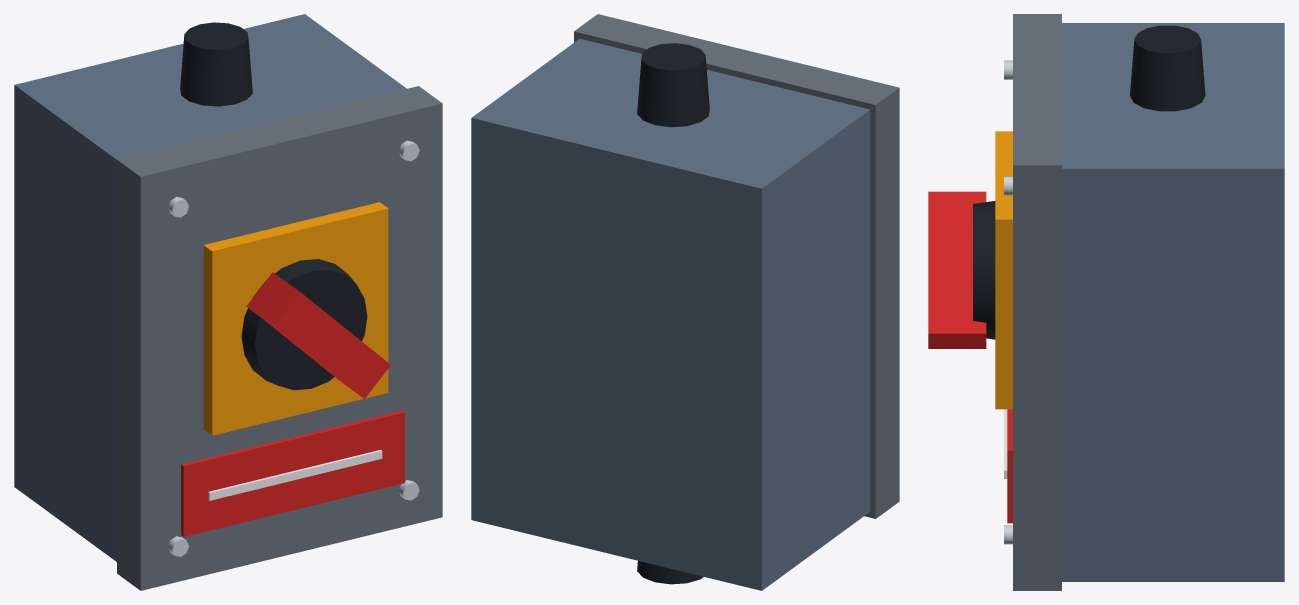
3 renders of one model, left to right at view 1: azimuth 30°, elevation 25°; view 2: azimuth 150°, elevation 25°; view 3: azimuth 270°, elevation 25°, orthographic. The views are drawn at different scales.
Visible parts, largest first — view 1: cad-ac-rapid-shutdown; view 2: cad-ac-rapid-shutdown; view 3: cad-ac-rapid-shutdown.
Boxes of the visible parts, x1=… form: cad-ac-rapid-shutdown: x1=14, y1=14, x2=442, y2=590; cad-ac-rapid-shutdown: x1=471, y1=14, x2=899, y2=590; cad-ac-rapid-shutdown: x1=928, y1=14, x2=1284, y2=590.
Bounding box in the file's own units: 0.161 × 0.261 × 0.16.
